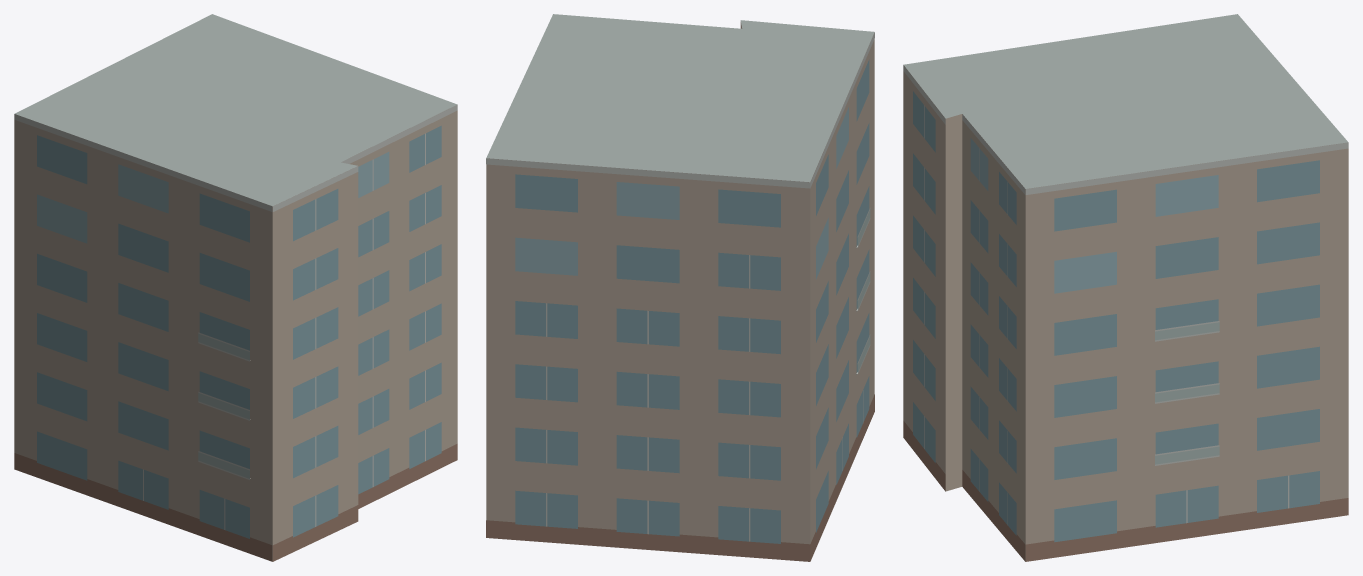
The model's file is survey-upis-32862784.glb.
The picture shows the model from 3 angles, left to right: view 1: azimuth 30°, elevation 25°; view 2: azimuth 150°, elevation 25°; view 3: azimuth 270°, elevation 25°; orthographic projection. The views are drawn at different scales.
Visible parts, largest first — view 1: survey-upis-32862784.tmp; view 2: survey-upis-32862784.tmp; view 3: survey-upis-32862784.tmp.
Part boxes in pixels (bbox=[...]): survey-upis-32862784.tmp: bbox=[14, 14, 457, 561]; survey-upis-32862784.tmp: bbox=[486, 14, 874, 561]; survey-upis-32862784.tmp: bbox=[903, 14, 1348, 561].
Size of the model in its own units: 14.81 by 14.7 by 15.92.
